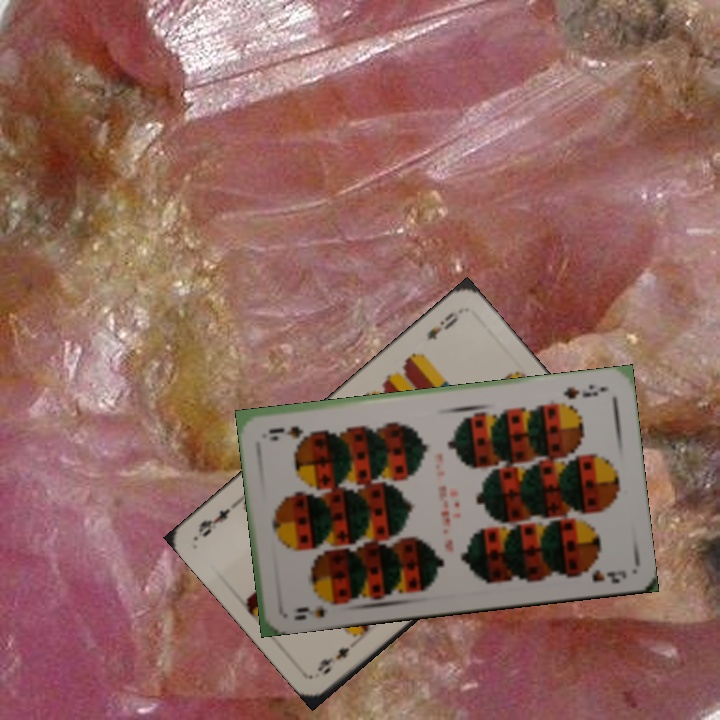E9: (423, 308, 462, 343), (313, 643, 352, 678)
S9: (290, 601, 331, 623), (560, 380, 600, 402)
